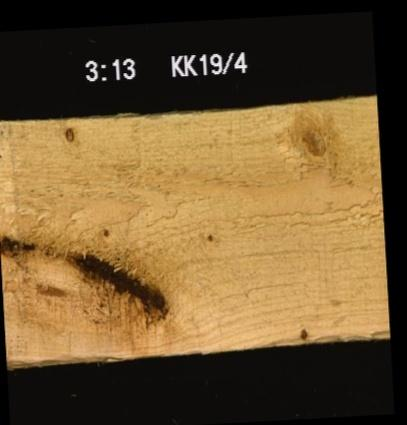dry_knot: (62, 125, 74, 142)
edge_knot: (297, 325, 307, 339)
small_knot: (205, 230, 214, 242)
sound_knot: (272, 102, 354, 187)
wave: (245, 330, 388, 343)
